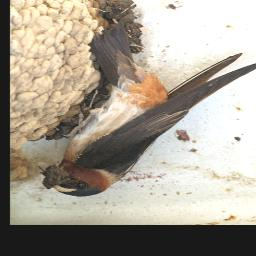Swallow: (42, 50, 256, 197)
